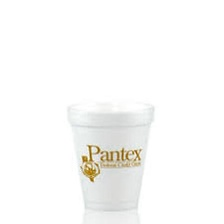paper_cup: (62, 95, 159, 216)
